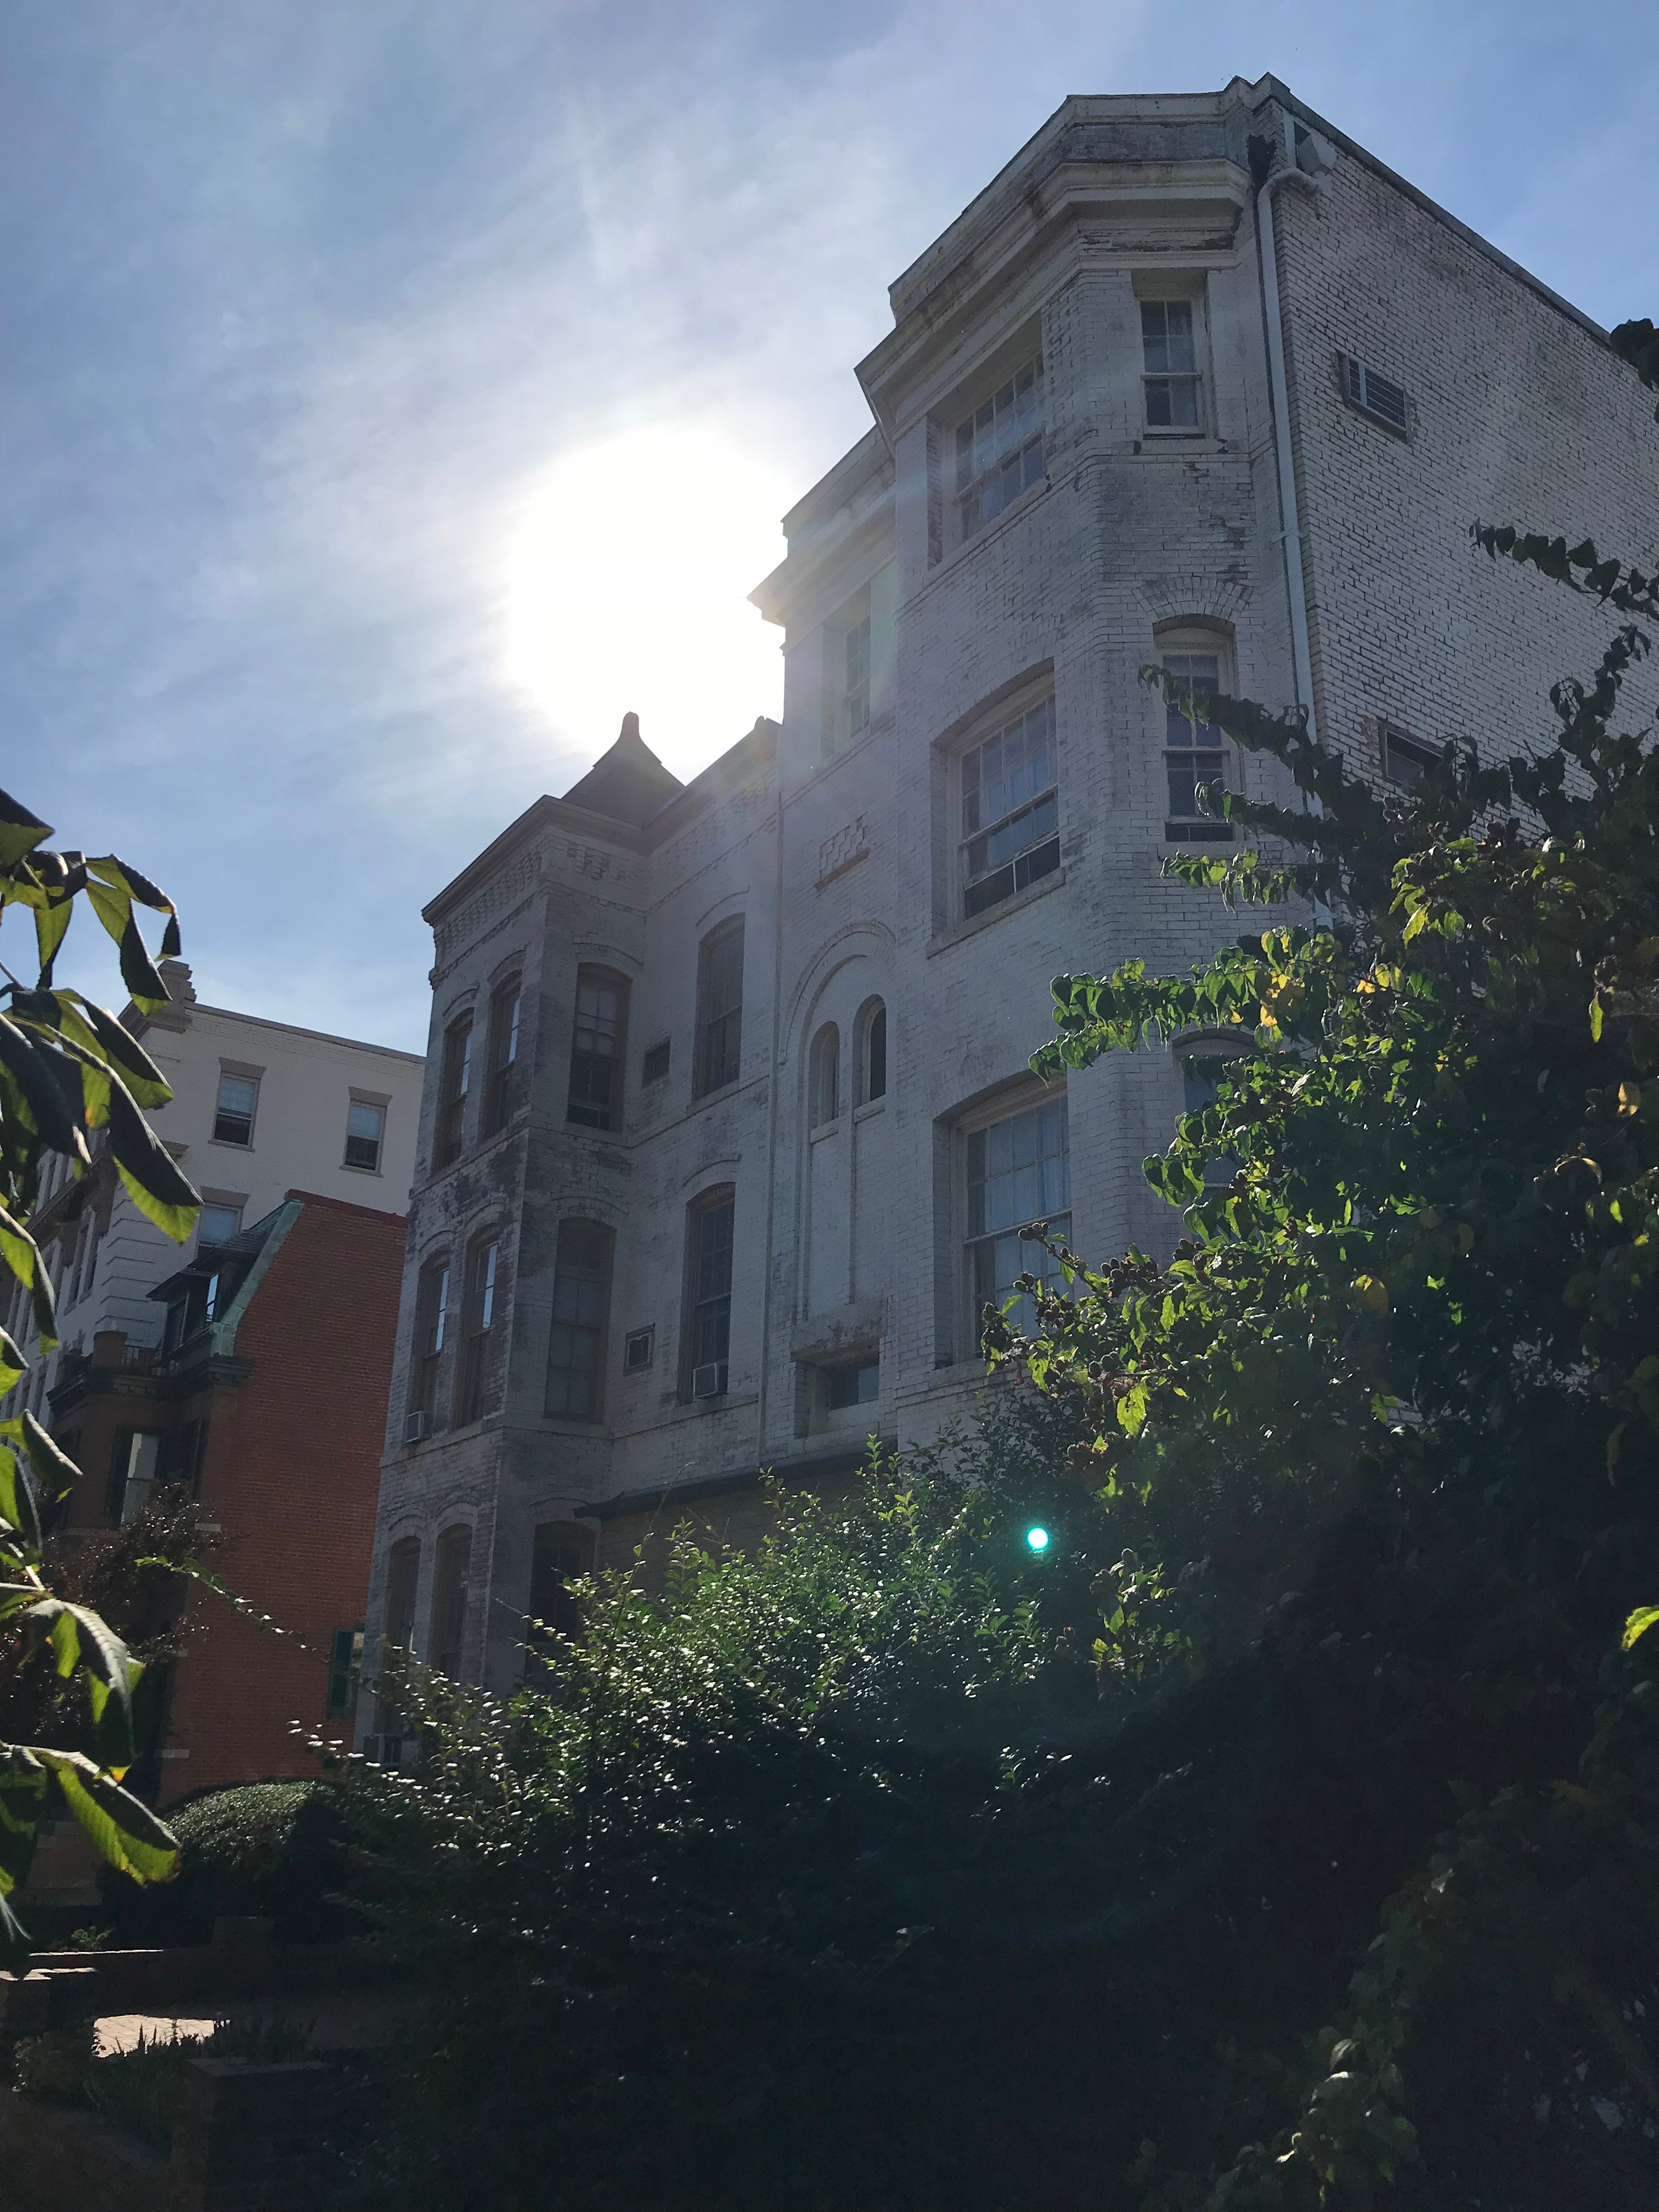flare: (1023, 1524, 1053, 1554)
